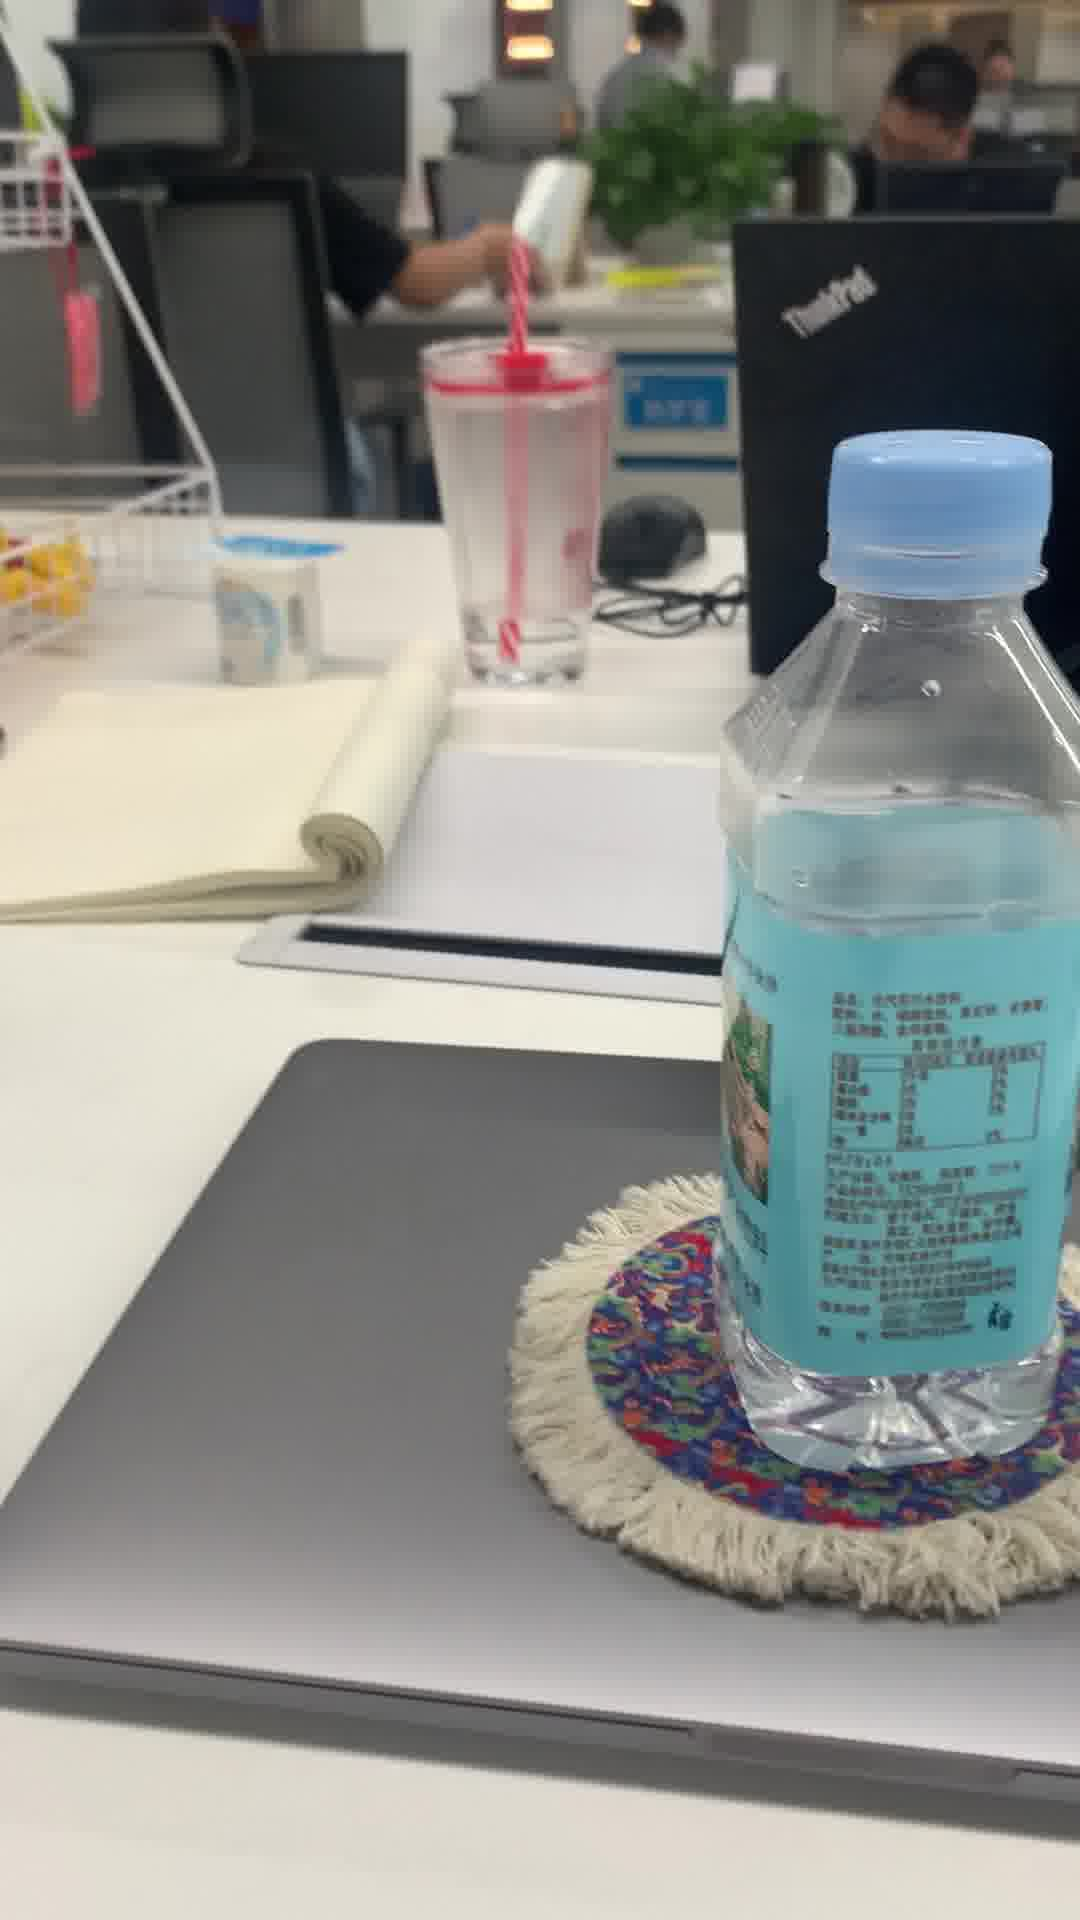水瓶: (717, 409, 1075, 1480)
